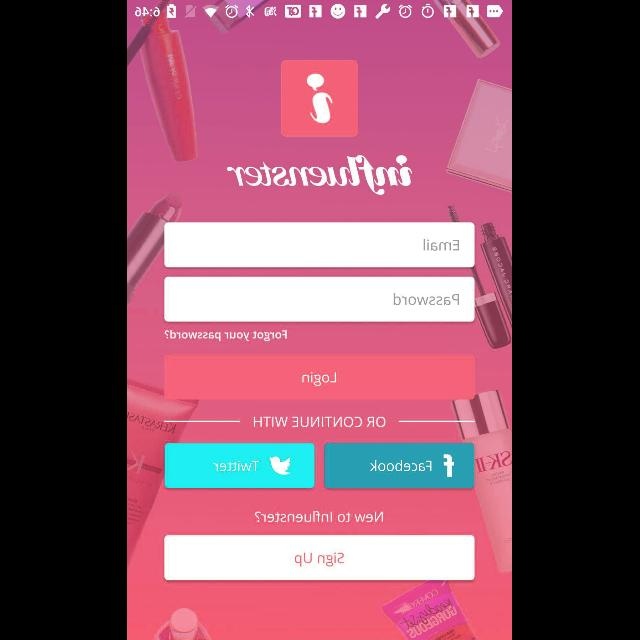backgroundimage: (128, 20, 512, 640)
image: (227, 154, 413, 196), (282, 61, 358, 138)
input: (165, 222, 475, 268), (165, 276, 475, 322)
text: (254, 414, 388, 428), (256, 511, 384, 523), (165, 330, 288, 342), (394, 293, 460, 305), (424, 239, 460, 251)
textbutton: (165, 354, 475, 400), (165, 536, 475, 580), (165, 444, 315, 488), (325, 444, 475, 488)
uppertaskbar: (128, 1, 512, 20)
